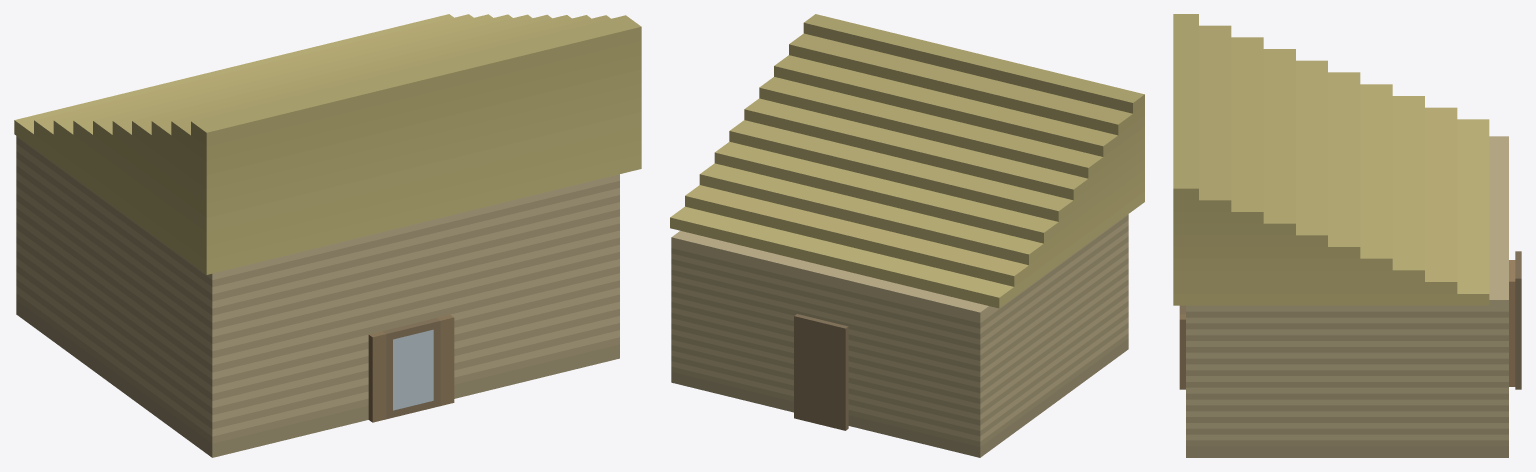
Rendered from choza_curandero_04.glb.
3 renders of one model, left to right at view 1: azimuth 30°, elevation 25°; view 2: azimuth 150°, elevation 25°; view 3: azimuth 270°, elevation 25°, orthographic. The views are drawn at different scales.
Visible parts, largest first — view 1: choza_curandero_04; view 2: choza_curandero_04; view 3: choza_curandero_04.
Part boxes in pixels (x1,y1,x2,y2): choza_curandero_04: (14, 14, 641, 457); choza_curandero_04: (670, 14, 1144, 457); choza_curandero_04: (1173, 14, 1521, 457).
Size of the model in its own units: 6.4 by 4.7 by 5.4.
